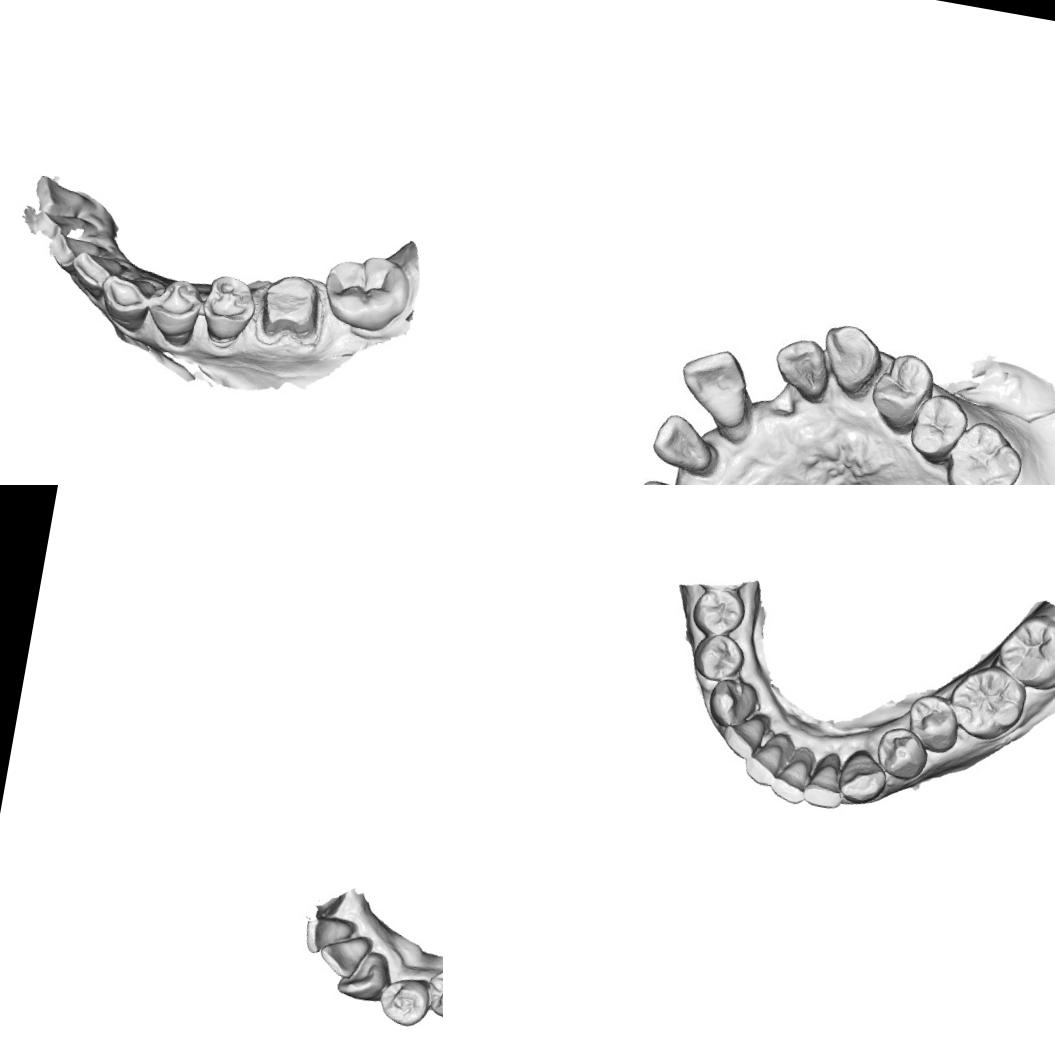canine: (815, 320, 881, 398), (94, 270, 158, 335), (334, 946, 394, 1004), (834, 746, 890, 808), (704, 674, 760, 732)
crown: (251, 264, 332, 350)
incisor: (673, 340, 759, 430), (648, 410, 716, 479), (772, 333, 835, 399), (740, 726, 796, 790), (799, 748, 849, 812), (29, 172, 95, 220), (66, 248, 124, 300), (718, 707, 771, 763), (767, 744, 814, 805), (316, 929, 370, 982), (44, 230, 103, 277), (300, 911, 356, 960), (32, 208, 96, 246)
molar: (316, 244, 415, 338), (942, 658, 1030, 745), (937, 416, 1024, 485), (990, 607, 1055, 695)
premolar: (870, 352, 936, 434), (902, 386, 970, 464), (195, 270, 260, 351), (142, 272, 206, 350), (902, 690, 963, 756), (871, 724, 931, 784), (688, 628, 748, 685), (688, 585, 748, 641), (374, 972, 432, 1028), (421, 962, 443, 1022)
